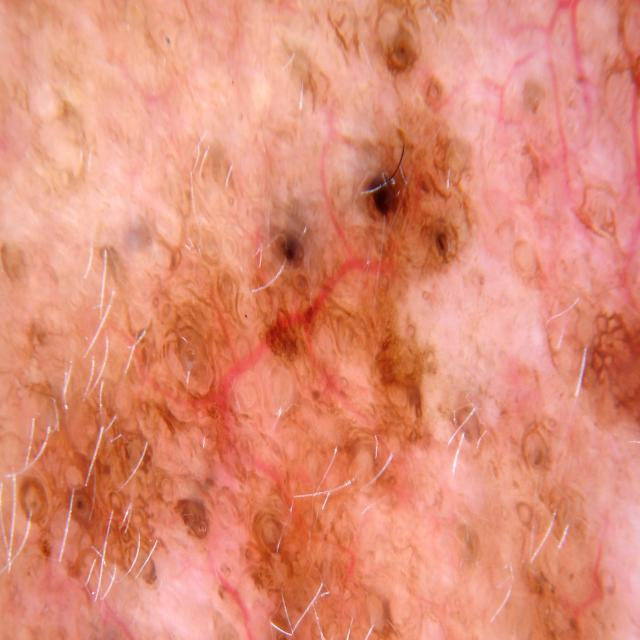Melanoma: (0, 79, 491, 640)
